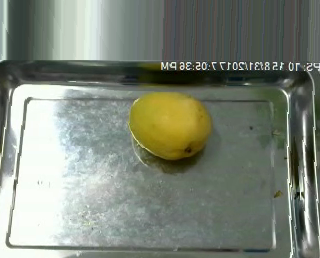Mango: (128, 92, 213, 159)
